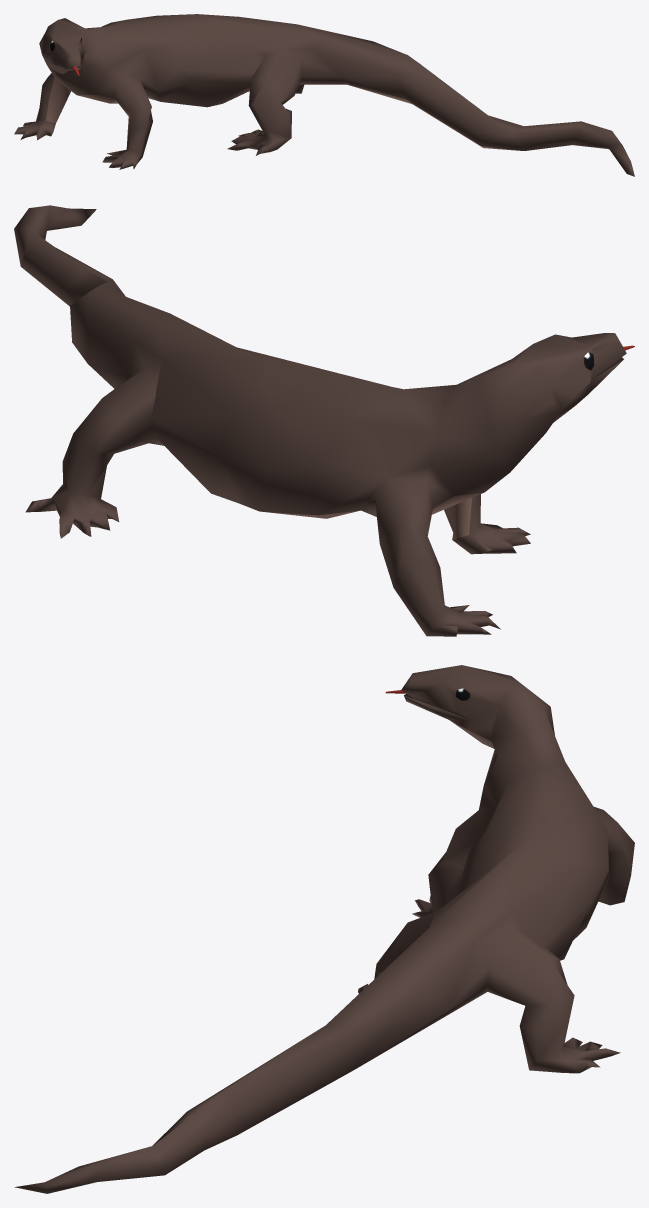
Rendered from cdfbe04c-b4b4-456f-a55f-cb709181d9a7.glb.
3 views of the same model, one above another, from view 1: azimuth 30°, elevation 25°; view 2: azimuth 150°, elevation 25°; view 3: azimuth 270°, elevation 25° (orthographic). The views are drawn at different scales.
Visible parts, largest first — view 1: MonitorLizard; view 2: MonitorLizard; view 3: MonitorLizard.
Boxes of the visible parts, bbox=[...] form: MonitorLizard: bbox=[14, 14, 634, 176]; MonitorLizard: bbox=[14, 205, 634, 636]; MonitorLizard: bbox=[14, 665, 634, 1193].
Size of what is drawn, in the model's own units: 1.77 by 0.5226 by 1.4.
1 material, 1 textured.
